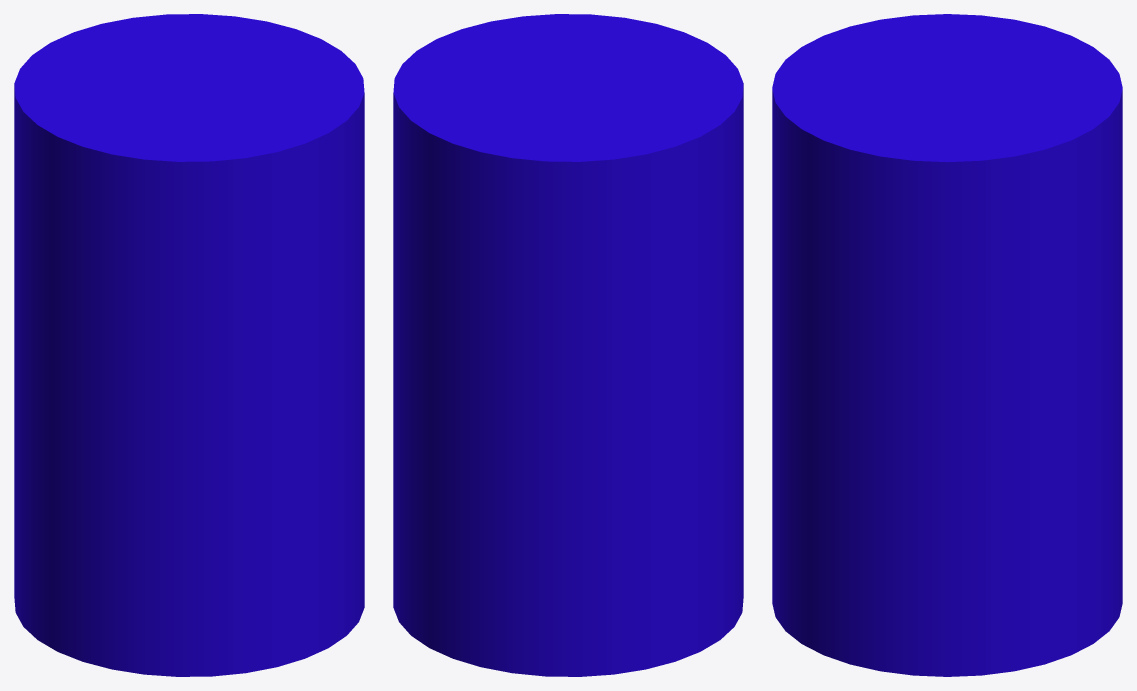
Rendered from piece1.gltf.
3 renders of one model, left to right at view 1: azimuth 30°, elevation 25°; view 2: azimuth 150°, elevation 25°; view 3: azimuth 270°, elevation 25°, orthographic.
Visible parts, largest first — view 1: Cylinder; view 2: Cylinder; view 3: Cylinder.
Part boxes in pixels (left/top/right/bottom): Cylinder: left=14, top=14, right=364, bottom=676; Cylinder: left=393, top=14, right=743, bottom=676; Cylinder: left=772, top=14, right=1122, bottom=676.
Bounding box in the file's own units: 0.8 × 1.3 × 0.8.
